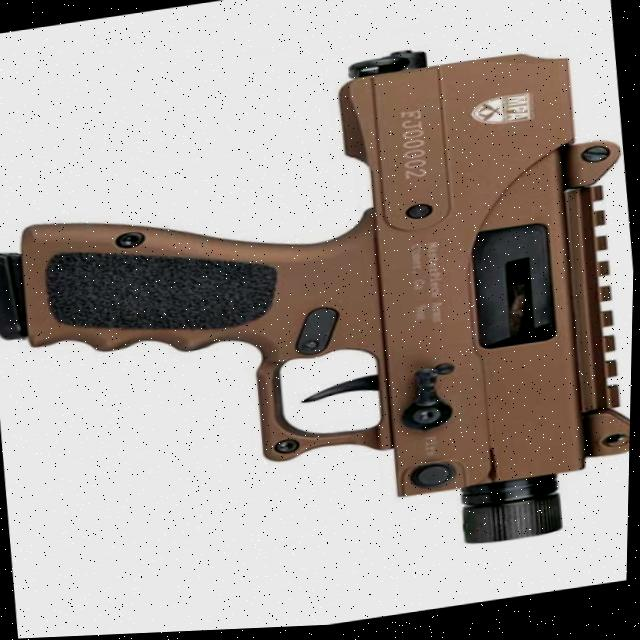pistol: (0, 26, 639, 613)
